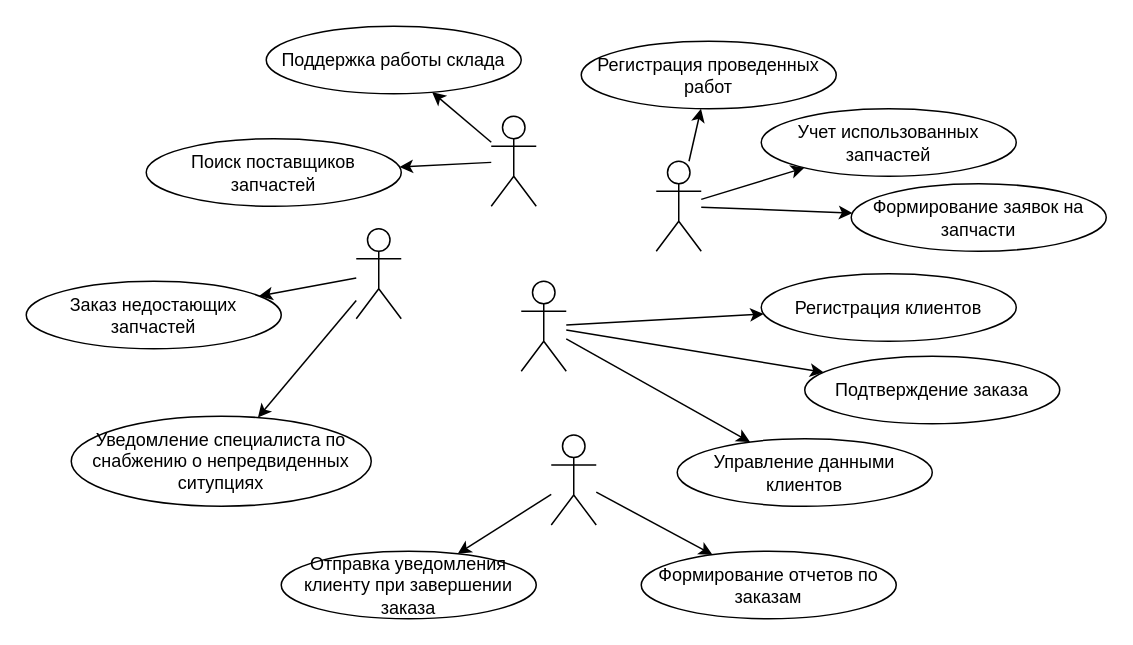
This 1133x645 diagram has some shape labels left out. The shapes that lost their labels are listed below. From the top down, each one's centre as x and y in pixels, then its label:
At [513,160]: "Специалист по снабжению".
At [678,205]: "Мастер по ремонту".
At [378,273]: "Склад".
At [543,325]: "Менеджер по обслуживанию клиентов".
At [573,479]: "Система отчетов".
